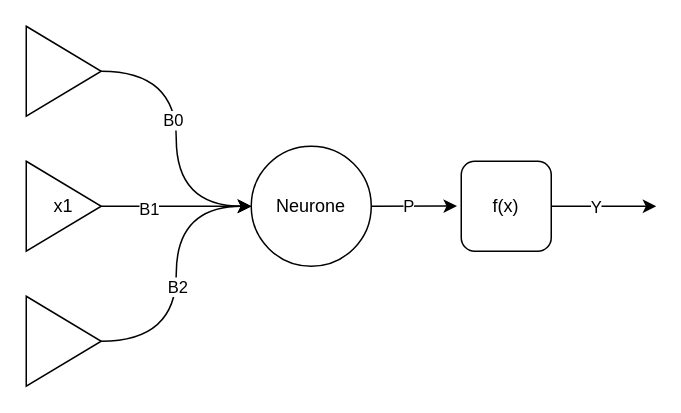
Image size: 681x413. Some labels were removed from this diagram. Here are the shapes that lost their labels. From the top down, the centre of each, then its label:
At (x=63, y=70): "x0".
At (x=63, y=340): "x2".
